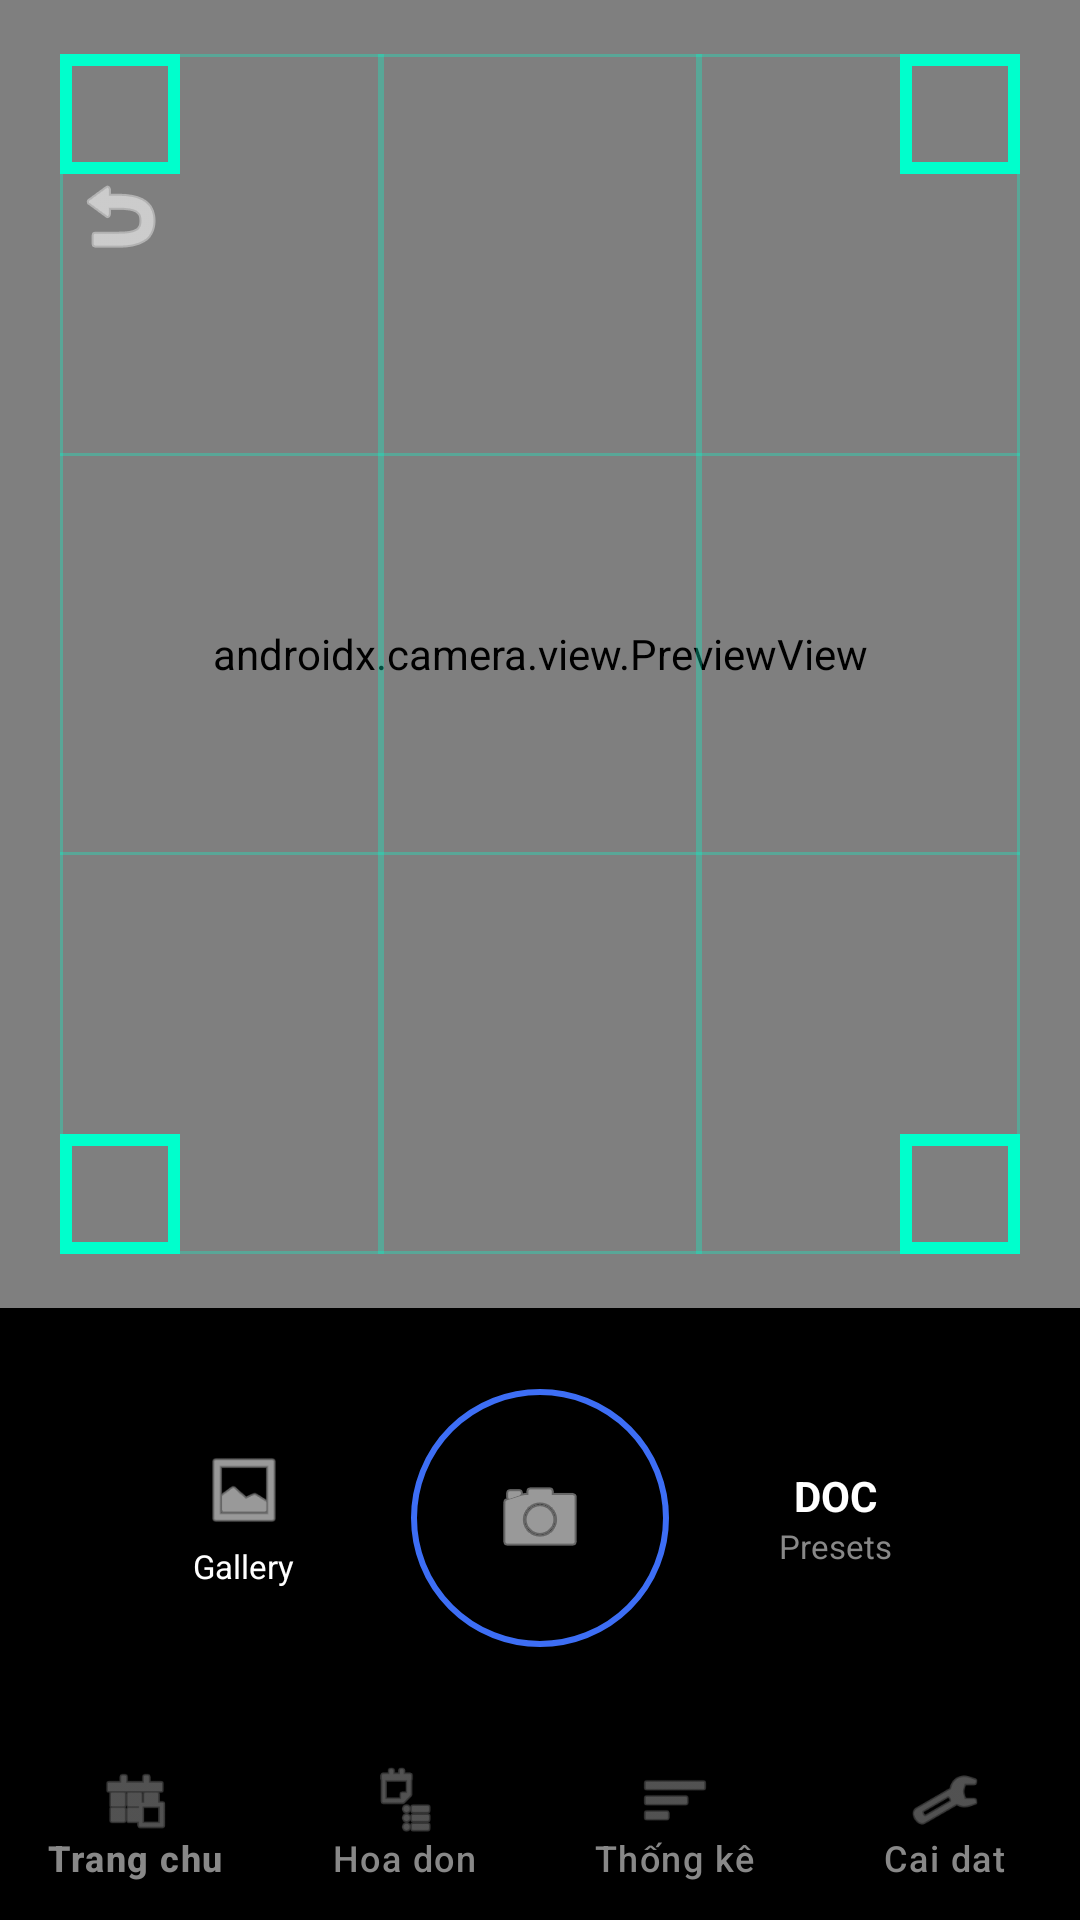

Named icons in this screenshot (1080*1920) and their centers, [x,y]:
revert: [121,217]
